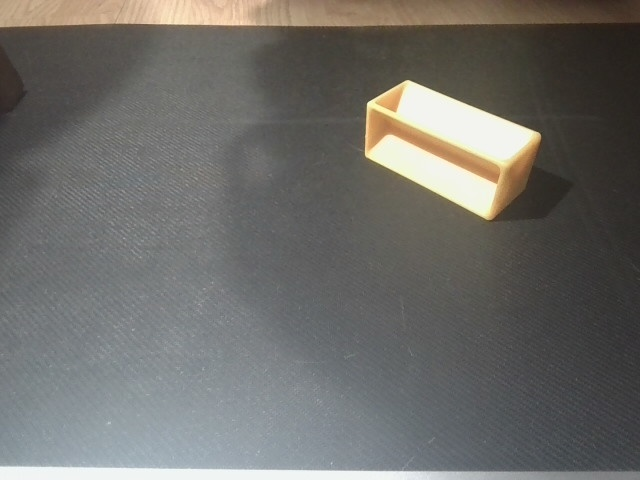YellowSample: (360, 75, 544, 224)
